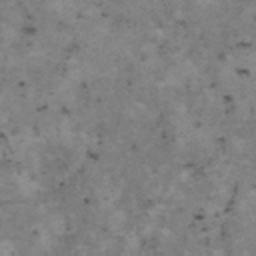Oxide scale of temperature system: (129, 38, 252, 221), (0, 79, 88, 140), (19, 5, 38, 36), (84, 150, 99, 160), (82, 196, 92, 205)
